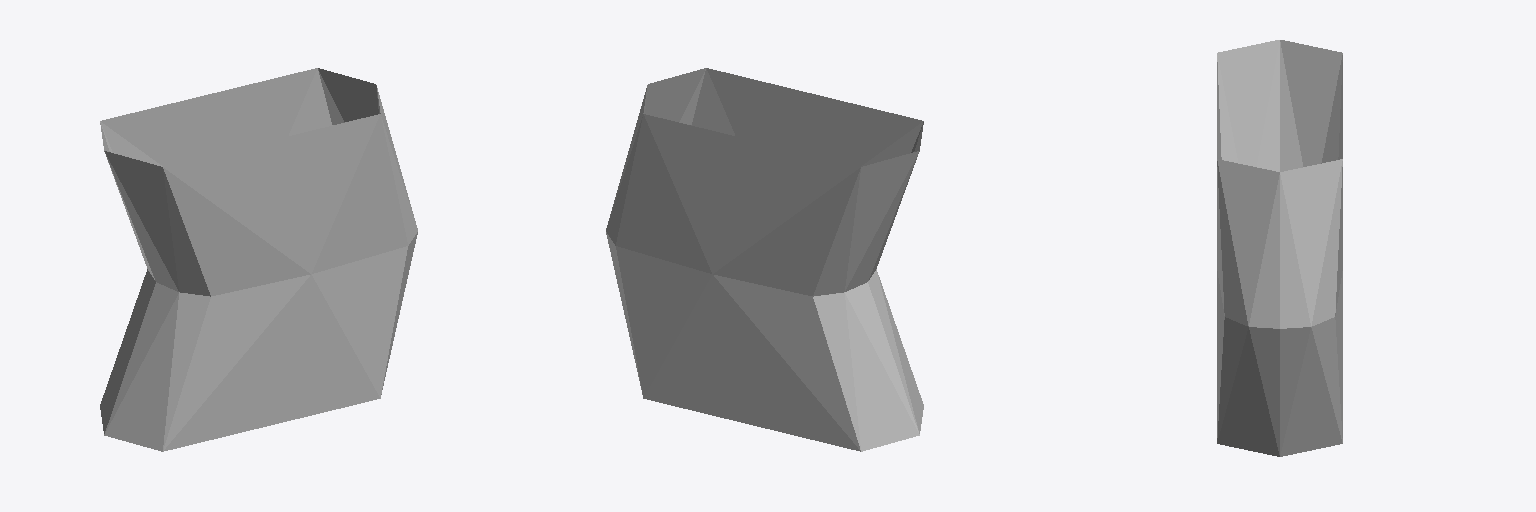
Rendered from iron_leg_mid.obj.
The picture shows the model from 3 angles: view 1: azimuth 30°, elevation 25°; view 2: azimuth 150°, elevation 25°; view 3: azimuth 270°, elevation 25°; orthographic projection.
Parts seen in each view (by area): view 1: IronLegMid; view 2: IronLegMid; view 3: IronLegMid.
Boxes of the visible parts, <box> form: IronLegMid: <box>100,68,417,451</box>; IronLegMid: <box>606,68,923,451</box>; IronLegMid: <box>1217,40,1342,456</box>.
Bounding box in the file's own units: 2.23 × 2 × 0.8.